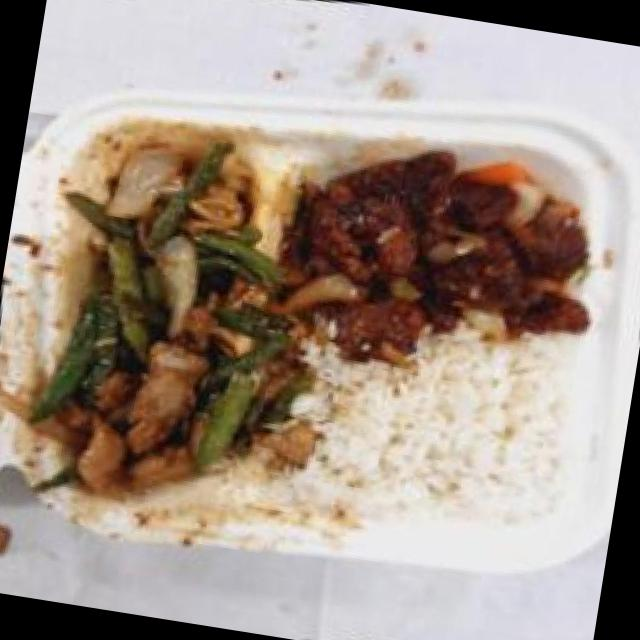Beijing Beef: (282, 110, 622, 382)
String Bean Chicken Breast: (0, 127, 338, 534)
White Steamed Rice: (287, 315, 588, 555)
